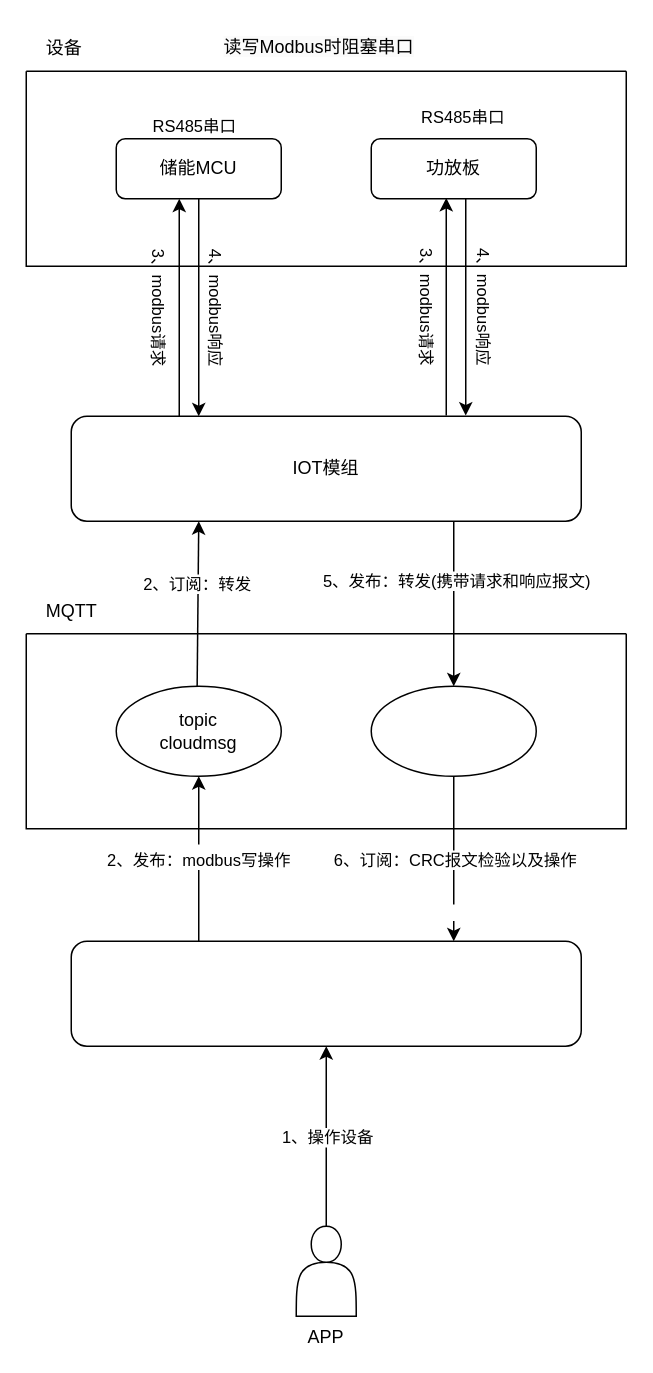
Some shapes in this 653 by 1373 pixel diagram are drawn without their labels. The shapes that lost their labels are listed below. From the top down, each one's centre as x and y in pixels, then its label:
(453,730): topic devmsg
(325,993): 云平台
